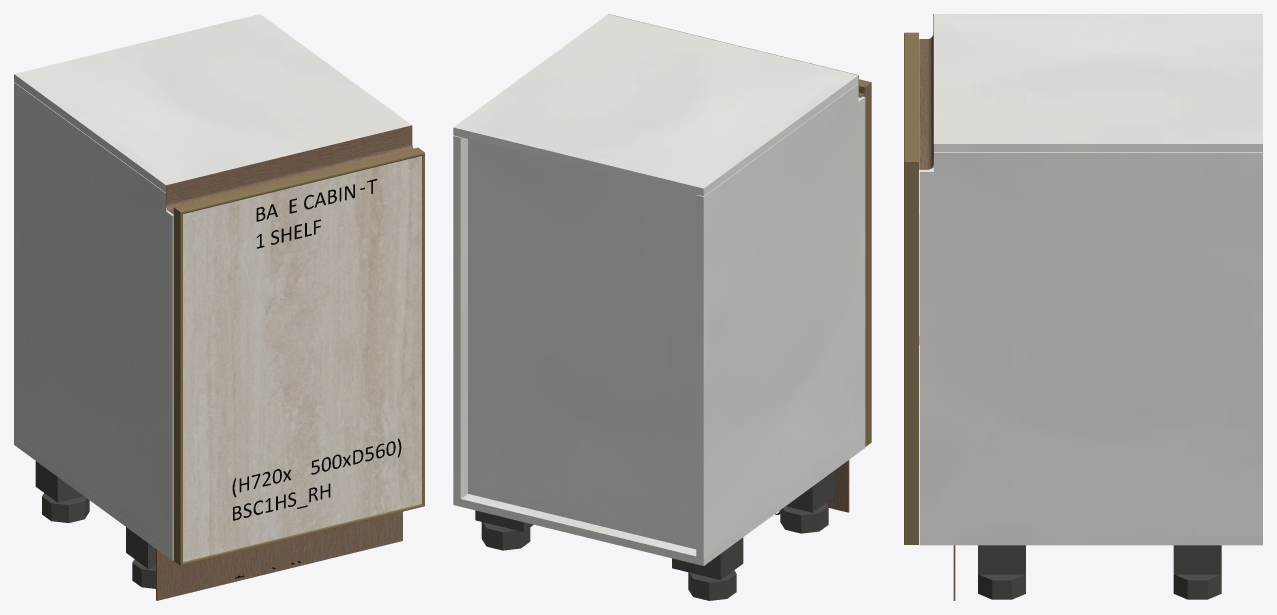
The model's file is BC-SH-CJ-ST-1SX-RHS-XXX-500-720-560-15.glb.
3 views of the same model, side by side, from view 1: azimuth 30°, elevation 25°; view 2: azimuth 150°, elevation 25°; view 3: azimuth 270°, elevation 25° (orthographic). The views are drawn at different scales.
Parts seen in each view (by area): view 1: Object_node_11, TP_node, TP_node_1, Object_node_13, ExtrSplGeo, Extrusion_node_1, Extrusion, 2D text_node, TP, Foot, Extrusion_node, 2D text (+3 smaller); view 2: TP_node_3, TP_node, TP_node_1, TP_node_0, TP, Extrusion_node_1, Plate, Foot, Foot_node_0, Foot_node, Plate_node_0, Object_node_13 (+1 smaller); view 3: TP_node_0, TP_node_1, Extrusion_node, TP, ExtrSplGeo, Extrusion, Plate_node, Plate_node_1, Foot_node, Foot_node_1.
Part boxes in pixels (box(x1,y1,x2,y2)): Object_node_11: box(183, 156, 421, 561); TP_node: box(14, 82, 173, 552); TP_node_1: box(14, 14, 411, 192); Object_node_13: box(156, 511, 402, 600); ExtrSplGeo: box(166, 125, 413, 214); Extrusion_node_1: box(173, 207, 182, 565); Extrusion: box(174, 147, 424, 213); 2D text_node: box(232, 438, 401, 520); TP: box(14, 437, 173, 560); Foot: box(42, 493, 89, 522); Extrusion_node: box(422, 153, 424, 505); 2D text: box(256, 179, 377, 248); TP_node_3: box(468, 139, 696, 549); TP_node: box(696, 83, 865, 558); TP_node_1: box(453, 14, 858, 196); TP_node_0: box(453, 135, 467, 498); TP: box(453, 440, 865, 565); Extrusion_node_1: box(859, 82, 871, 446); Plate: box(672, 537, 743, 579); Foot: box(688, 570, 736, 600); Foot_node_0: box(780, 503, 828, 533); Foot_node: box(481, 522, 530, 550); Plate_node_0: box(786, 470, 835, 512); Object_node_13: box(826, 460, 849, 512); TP_node_0: box(919, 152, 1262, 536); TP_node_1: box(934, 14, 1262, 152); Extrusion_node: box(904, 162, 918, 544); TP: box(919, 537, 1262, 545); ExtrSplGeo: box(919, 14, 933, 169); Extrusion: box(904, 32, 918, 161); Plate_node: box(1173, 545, 1221, 574); Plate_node_1: box(978, 545, 1025, 574); Foot_node: box(1173, 574, 1221, 599); Foot_node_1: box(978, 574, 1025, 599).
Size of what is drawn, in the model's own units: 0.5 by 0.82 by 0.5899.
6 materials, 3 textured.
